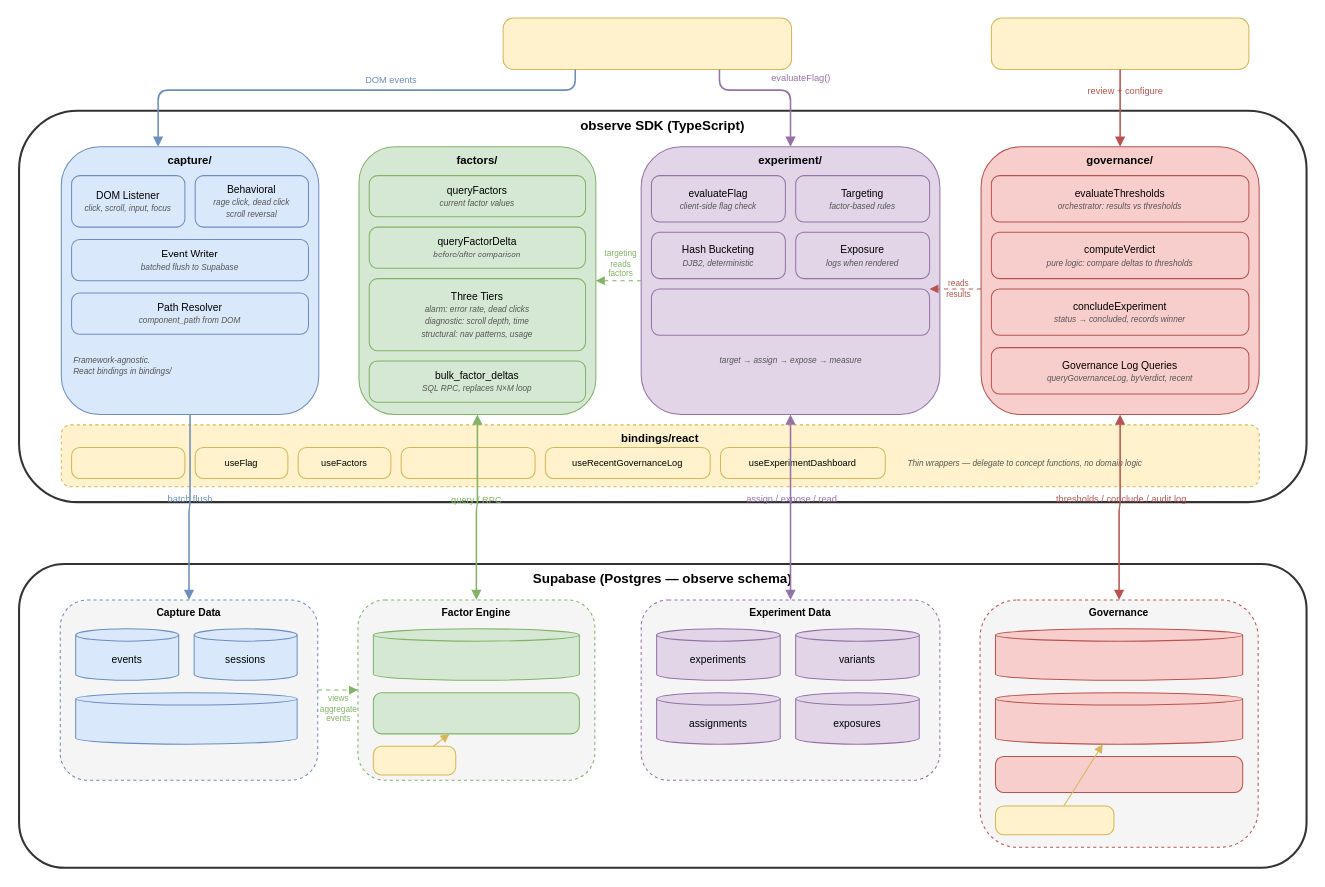
Some shapes in this 1325 by 887 pixel diagram are drawn without their labels. Here are the shapes that lost their labels. From the top down, the centre of each, then its label:
(x=647, y=43): Client App Browser / React / Flutter / Native
(x=1119, y=43): Governor sets thresholds, reviews verdicts
(x=790, y=311): Results Analysis per-variant averaged factor deltas
(x=128, y=462): ObserveProvider
(x=467, y=462): useGovernanceLog
(x=475, y=654): factor_snapshots
(x=1118, y=654): thresholds governor-set rules
(x=186, y=718): user_factor_vectors pgvector embeddings
(x=475, y=713): Materialized Views alarm · diagnostic · structural
(x=1118, y=718): governance_log append-only audit log
(x=414, y=760): pg_cron refresh views
(x=1118, y=774): v_experiment_summary governor dashboard view
(x=1054, y=820): pg_cron evaluate_governance 15m
